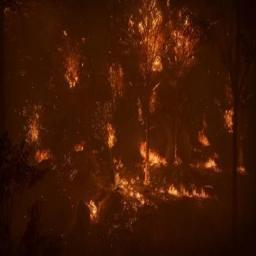Large fire: (16, 5, 255, 225)
